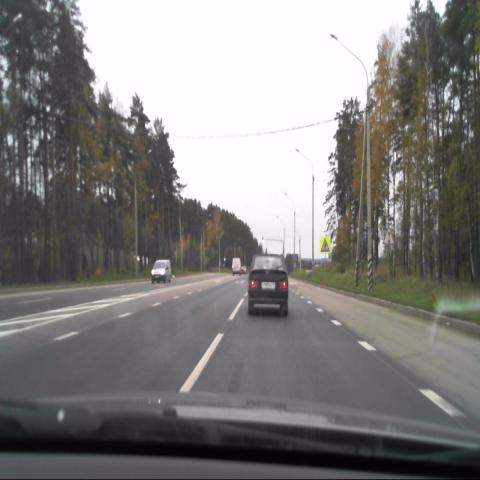1_8: (382, 226, 395, 245)
